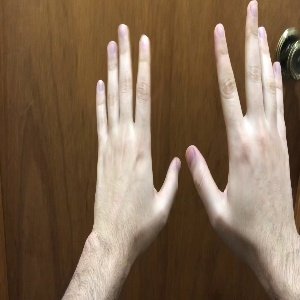hand: (186, 1, 296, 232), (96, 23, 181, 233)
